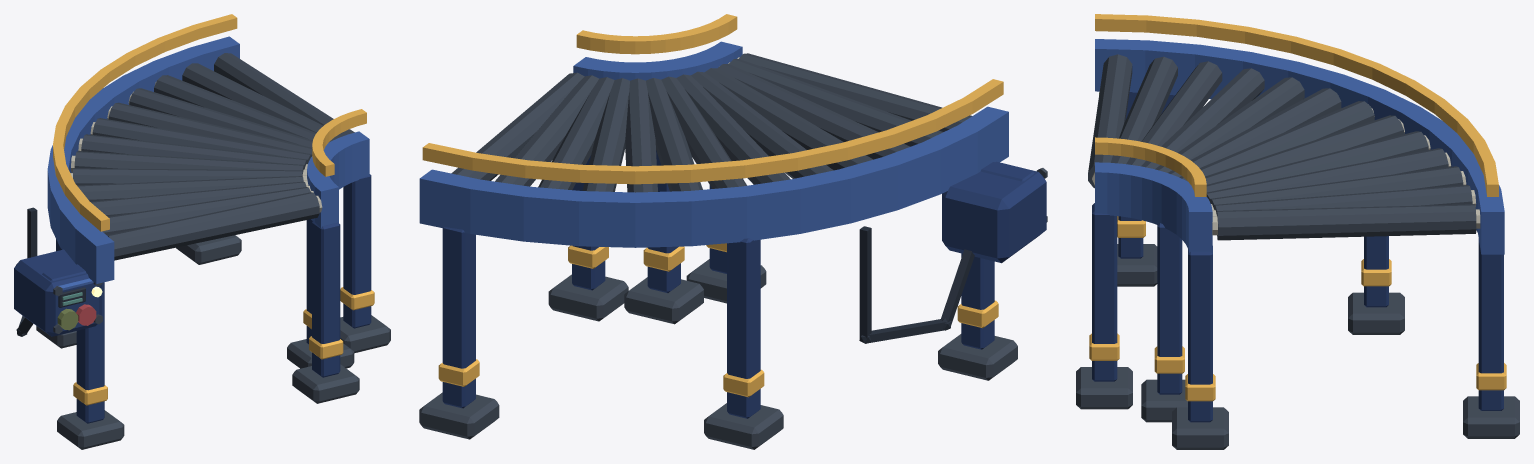
The model's file is mach_conveyor_corner.glb.
3 views of the same model, side by side, from view 1: azimuth 30°, elevation 25°; view 2: azimuth 150°, elevation 25°; view 3: azimuth 270°, elevation 25° (orthographic). The views are drawn at different scales.
Parts seen in each view (by area): view 1: mach_conveyor_corner__outer_rail, mach_conveyor_corner__corner_roller_00_rubber, mach_conveyor_corner__outer_guard, mach_conveyor_corner__corner_motor, mach_conveyor_corner__corner_support_inner_0_stem, mach_conveyor_corner__corner_support_inner_2_stem, mach_conveyor_corner__inner_rail, mach_conveyor_corner__corner_roller_05_rubber, mach_conveyor_corner__corner_roller_06_rubber, mach_conveyor_corner__corner_roller_04_rubber, mach_conveyor_corner__corner_roller_07_rubber, mach_conveyor_corner__corner_roller_08_rubber (+21 smaller); view 2: mach_conveyor_corner__outer_rail, mach_conveyor_corner__outer_guard, mach_conveyor_corner__corner_motor, mach_conveyor_corner__corner_support_outer_2_stem, mach_conveyor_corner__corner_support_outer_1_stem, mach_conveyor_corner, mach_conveyor_corner__corner_roller_00_rubber, mach_conveyor_corner__inner_rail, mach_conveyor_corner__corner_roller_01_rubber, mach_conveyor_corner__inner_guard, mach_conveyor_corner__corner_roller_02_rubber, mach_conveyor_corner__corner_roller_03_rubber (+23 smaller); view 3: mach_conveyor_corner__outer_rail, mach_conveyor_corner__outer_guard, mach_conveyor_corner__corner_roller_12_rubber, mach_conveyor_corner__inner_rail, mach_conveyor_corner__corner_support_inner_0_stem, mach_conveyor_corner__corner_support_inner_2_stem, mach_conveyor_corner__corner_support_inner_1_stem, mach_conveyor_corner__corner_support_outer_2_stem, mach_conveyor_corner__corner_roller_11_rubber, mach_conveyor_corner__corner_roller_10_rubber, mach_conveyor_corner__corner_roller_09_rubber, mach_conveyor_corner__corner_roller_08_rubber (+23 smaller).
Boxes of the visible parts, x1,y1,x2,y2 form: mach_conveyor_corner__outer_rail: (47, 36, 239, 283); mach_conveyor_corner__corner_roller_00_rubber: (107, 192, 319, 260); mach_conveyor_corner__outer_guard: (53, 14, 237, 231); mach_conveyor_corner__corner_motor: (14, 249, 101, 336); mach_conveyor_corner__corner_support_inner_0_stem: (312, 220, 340, 377); mach_conveyor_corner__corner_support_inner_2_stem: (343, 174, 371, 328); mach_conveyor_corner__inner_rail: (307, 131, 369, 227); mach_conveyor_corner__corner_roller_05_rubber: (74, 151, 304, 173); mach_conveyor_corner__corner_roller_06_rubber: (81, 134, 307, 168); mach_conveyor_corner__corner_roller_04_rubber: (73, 168, 302, 185); mach_conveyor_corner__corner_roller_07_rubber: (92, 118, 312, 162); mach_conveyor_corner__corner_roller_08_rubber: (108, 102, 312, 154); mach_conveyor_corner__outer_rail: (419, 106, 1008, 247); mach_conveyor_corner__outer_guard: (422, 79, 1003, 184); mach_conveyor_corner__corner_motor: (942, 161, 1046, 263); mach_conveyor_corner__corner_support_outer_2_stem: (442, 227, 475, 408); mach_conveyor_corner__corner_support_outer_1_stem: (727, 238, 760, 418); mach_conveyor_corner: (859, 226, 974, 343); mach_conveyor_corner__corner_roller_00_rubber: (739, 53, 971, 131); mach_conveyor_corner__inner_rail: (573, 41, 742, 80); mach_conveyor_corner__corner_roller_01_rubber: (729, 59, 943, 146); mach_conveyor_corner__inner_guard: (576, 14, 737, 54); mach_conveyor_corner__corner_roller_02_rubber: (717, 64, 909, 159); mach_conveyor_corner__corner_roller_03_rubber: (704, 68, 872, 170); mach_conveyor_corner__outer_rail: (1095, 39, 1504, 254); mach_conveyor_corner__outer_guard: (1095, 14, 1498, 196); mach_conveyor_corner__corner_roller_12_rubber: (1217, 204, 1476, 240); mach_conveyor_corner__inner_rail: (1095, 162, 1212, 253); mach_conveyor_corner__corner_support_inner_0_stem: (1092, 203, 1117, 381); mach_conveyor_corner__corner_support_inner_2_stem: (1188, 246, 1212, 422); mach_conveyor_corner__corner_support_inner_1_stem: (1157, 223, 1182, 394); mach_conveyor_corner__corner_support_outer_2_stem: (1478, 238, 1503, 410); mach_conveyor_corner__corner_roller_11_rubber: (1214, 185, 1472, 214); mach_conveyor_corner__corner_roller_10_rubber: (1210, 166, 1463, 208); mach_conveyor_corner__corner_roller_09_rubber: (1206, 148, 1448, 201); mach_conveyor_corner__corner_roller_08_rubber: (1206, 131, 1428, 192).
Size of the model in its own units: 1.44 by 0.85 by 1.32.
